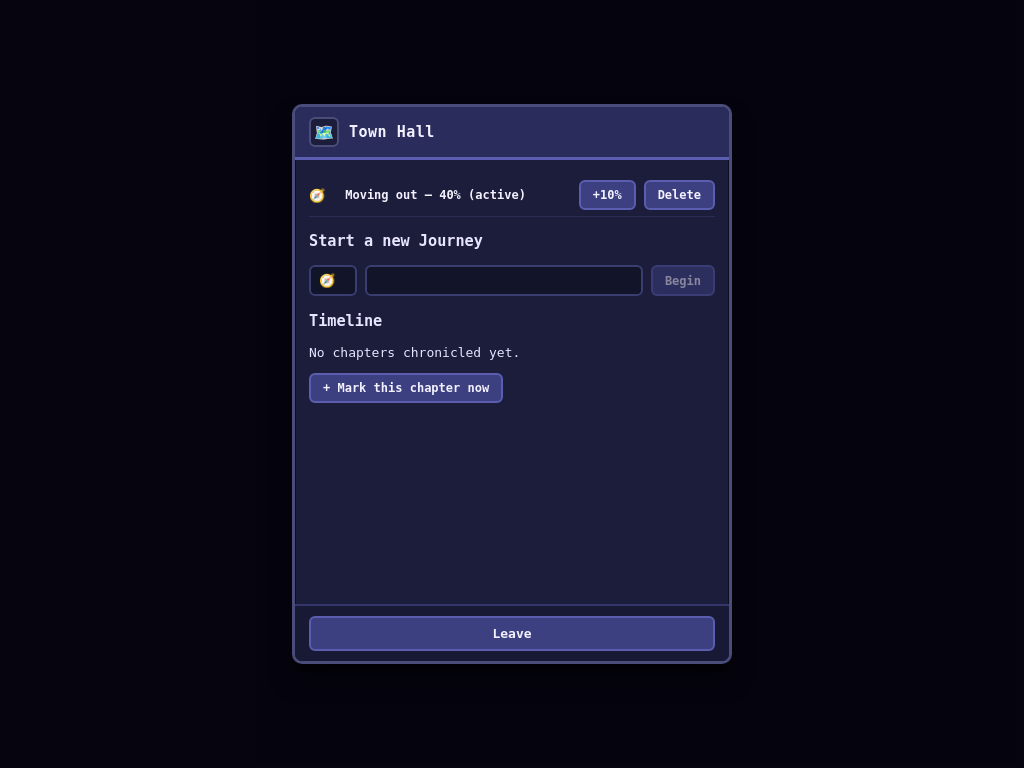
TownHallOverlay › Journey links (overlay quality-parity audit, task #79) › offers a real memory picker excluding non-memory kinds and already-linked ones
This screenshot has width=1024, height=768.
Click the button "Moving out — 40% (active)".
click(452, 195)  # box [333, 182, 571, 208]
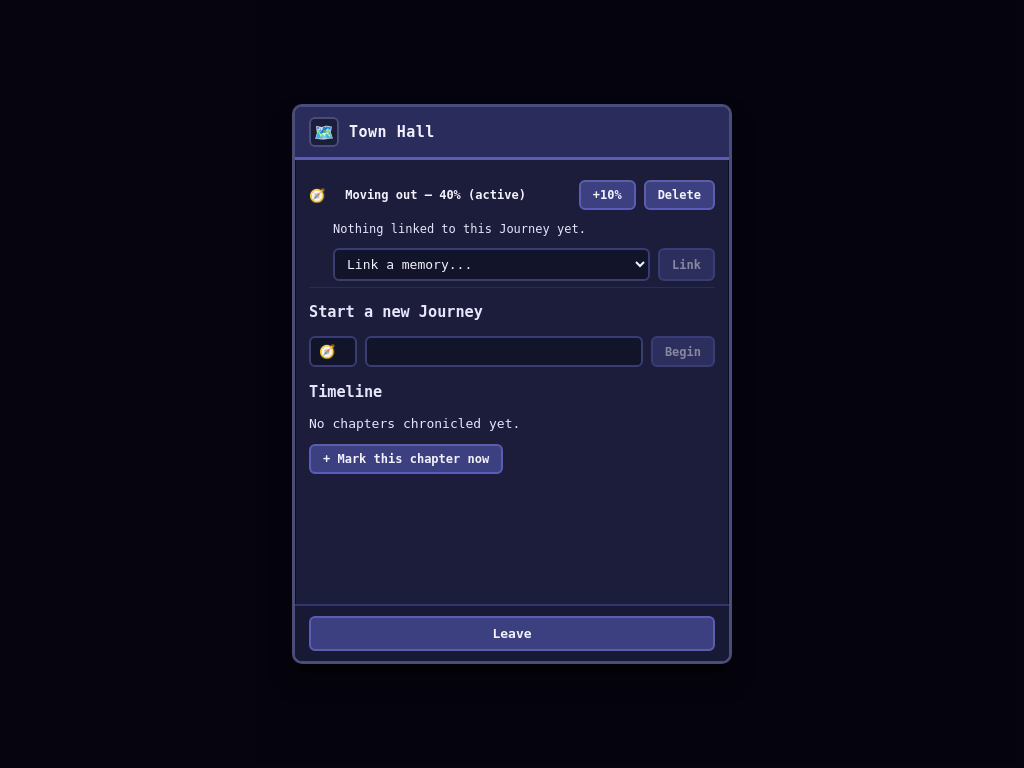
Expected: the dropdown named "Memory to link" is shown, [333, 248, 650, 281]
